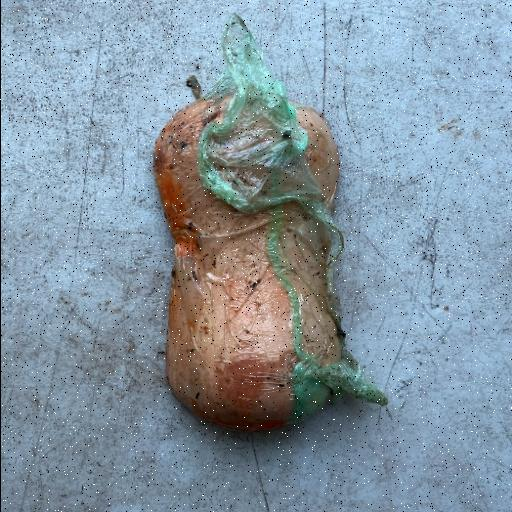Waste: (150, 14, 389, 434)
